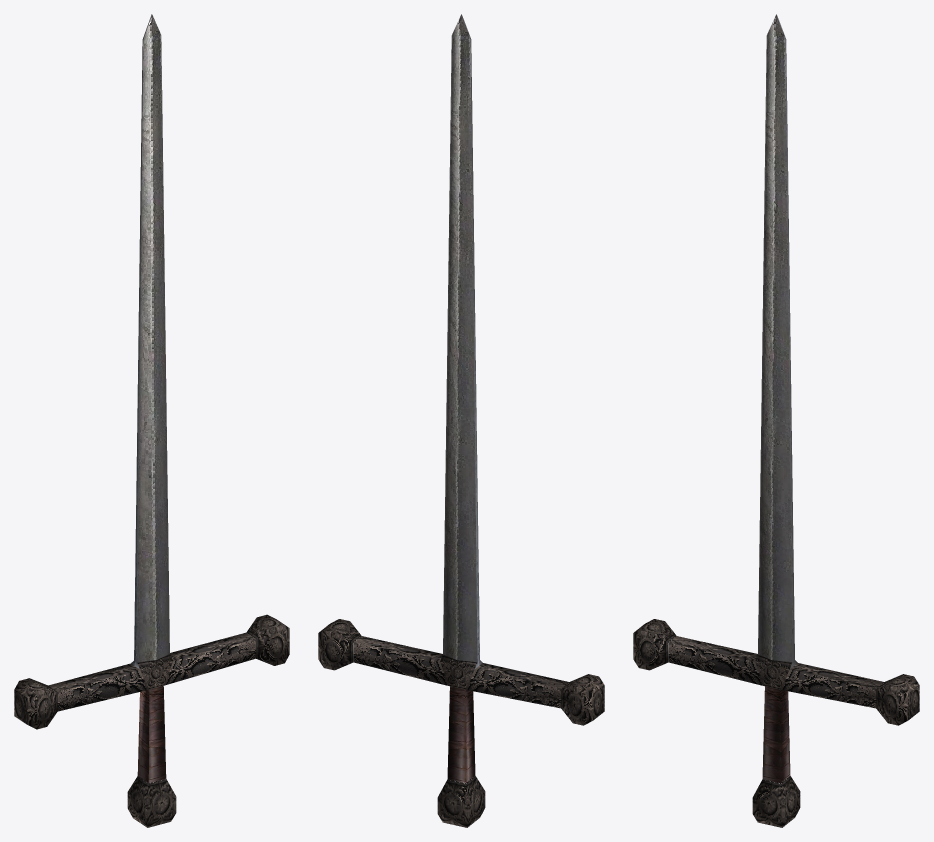
File: Sword.glb
3 views of the same model, side by side, from view 1: azimuth 30°, elevation 25°; view 2: azimuth 150°, elevation 25°; view 3: azimuth 330°, elevation 25° (orthographic).
Visible parts, largest first — view 1: Sword; view 2: Sword; view 3: Sword.
Boxes of the visible parts, x1,y1,x2,y2 form: Sword: (14, 14, 289, 827); Sword: (318, 14, 604, 827); Sword: (633, 14, 919, 827).
Bounding box in the file's own units: 0.3342 × 0.9545 × 0.0482.
Materials: 1 (1 with a texture image).
